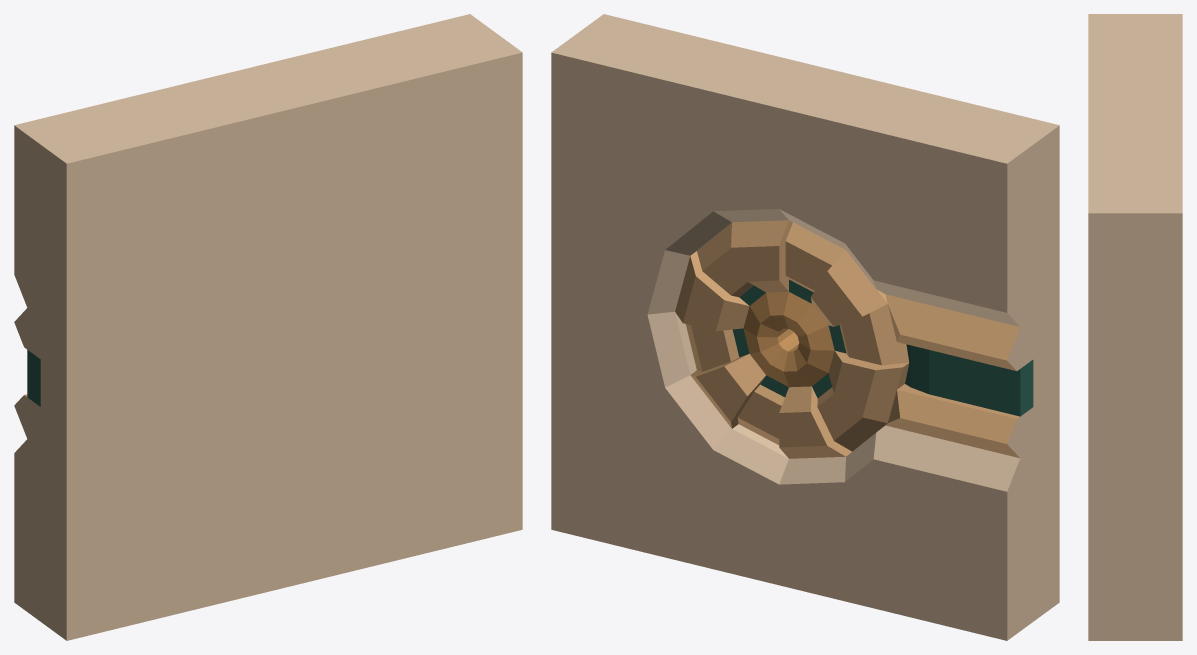
The model's file is Puzzle_Wall_Conduit_Emitter_End.obj.
The picture shows the model from 3 angles, left to right: view 1: azimuth 30°, elevation 25°; view 2: azimuth 150°, elevation 25°; view 3: azimuth 270°, elevation 25°; orthographic projection. The views are drawn at different scales.
Visible parts, largest first — view 1: object2; view 2: object2, object4, object1, object3; view 3: object2.
Boxes of the visible parts, box(x1,y1,x2,y2) form: object2: box(14, 14, 522, 640); object2: box(551, 14, 1059, 640); object4: box(675, 220, 909, 458); object1: box(905, 344, 1033, 416); object3: box(733, 279, 846, 397); object2: box(1088, 14, 1182, 640).
Bounding box in the file's own units: 1 × 1 × 0.2.
